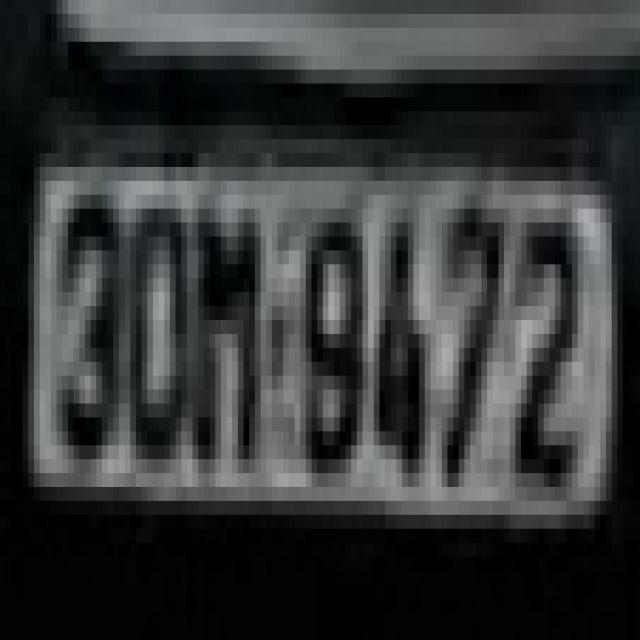0: (124, 195, 188, 460)
2: (516, 208, 584, 488)
3: (51, 180, 125, 460)
4: (374, 195, 431, 487)
7: (442, 195, 504, 487)
8: (300, 208, 368, 474)
M: (196, 181, 264, 473)
